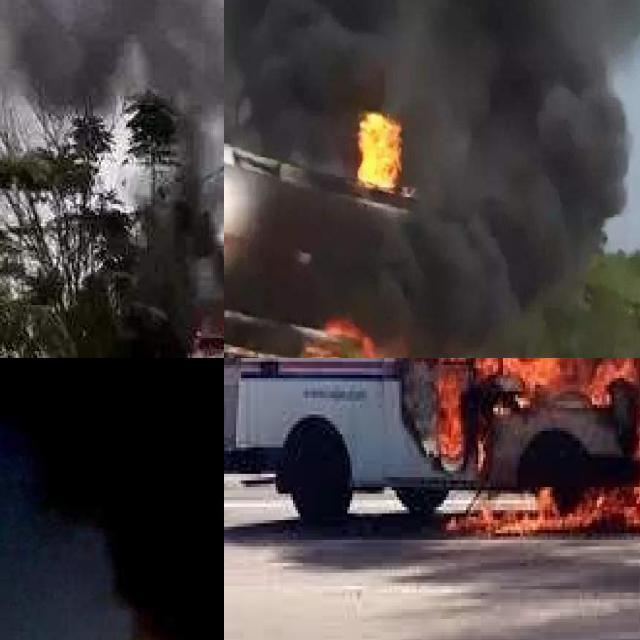fire: (389, 358, 640, 556), (257, 309, 454, 358), (353, 103, 408, 207), (182, 309, 224, 358)
smoke: (224, 0, 640, 309), (0, 0, 224, 331), (17, 358, 224, 640)
